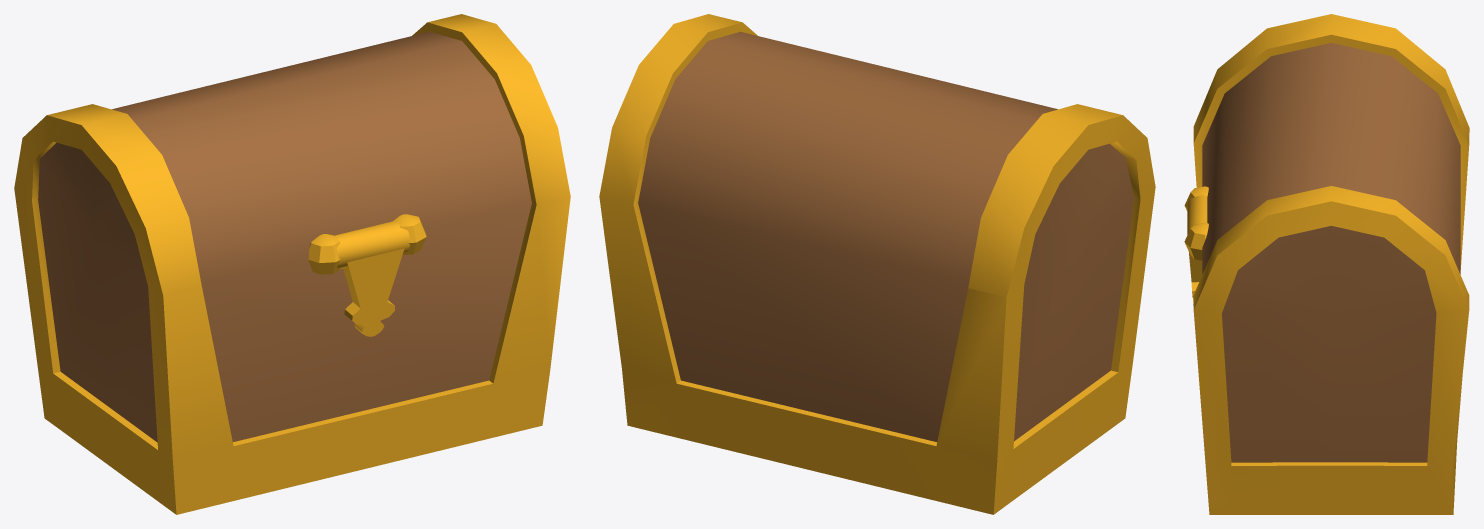
The model's file is Chest_Closed.fbx.
3 renders of one model, left to right at view 1: azimuth 30°, elevation 25°; view 2: azimuth 150°, elevation 25°; view 3: azimuth 270°, elevation 25°, orthographic. The views are drawn at different scales.
Parts seen in each view (by area): view 1: Chest_Closed; view 2: Chest_Closed; view 3: Chest_Closed.
Part boxes in pixels (bbox=[...]): Chest_Closed: bbox=[14, 14, 570, 514]; Chest_Closed: bbox=[599, 14, 1155, 514]; Chest_Closed: bbox=[1184, 14, 1469, 514].
Bounding box in the file's own units: 379 × 302 × 242.
